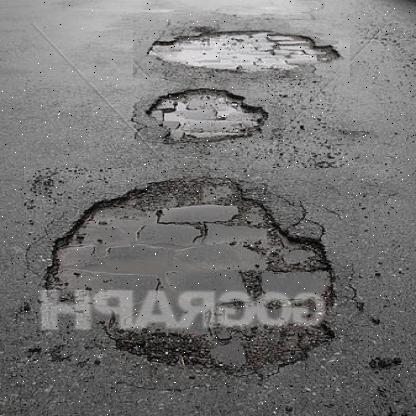pothole: (25, 168, 361, 383), (133, 20, 351, 79), (130, 82, 283, 146)
